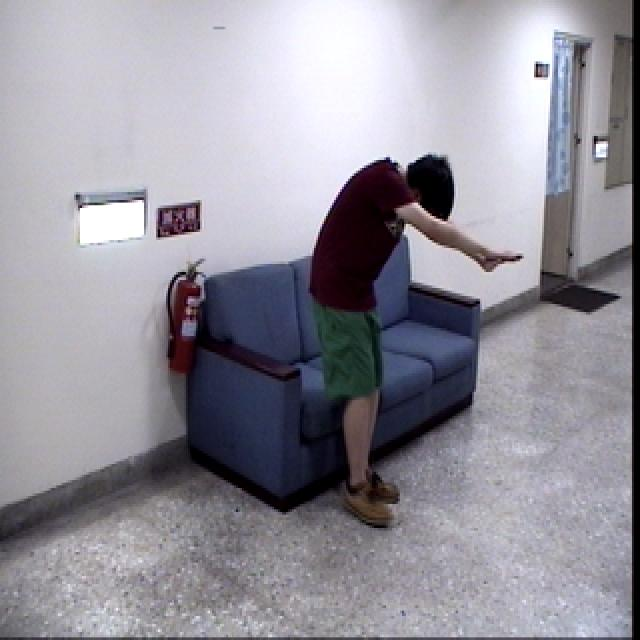bend: (304, 149, 526, 530)
